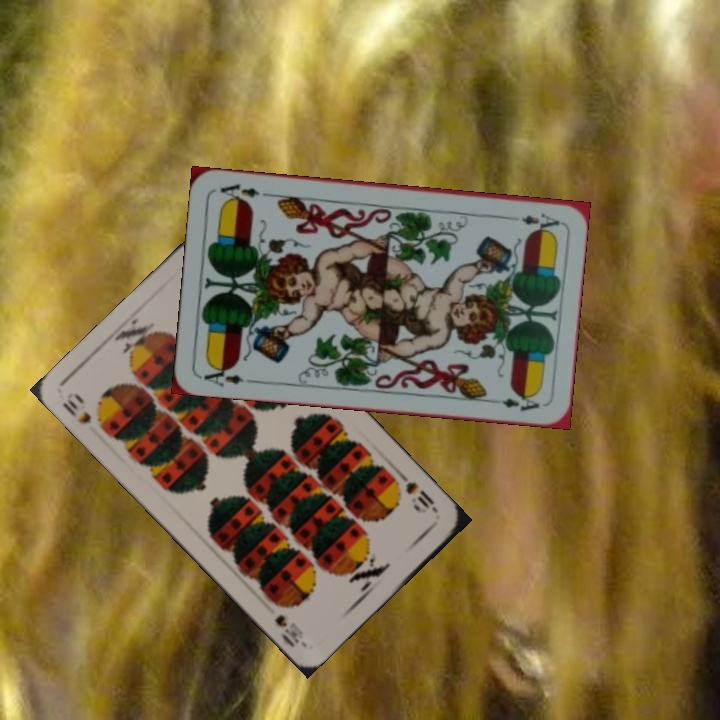EA: (199, 361, 257, 390), (518, 209, 562, 232)
S10: (58, 388, 108, 434), (395, 469, 442, 516)
